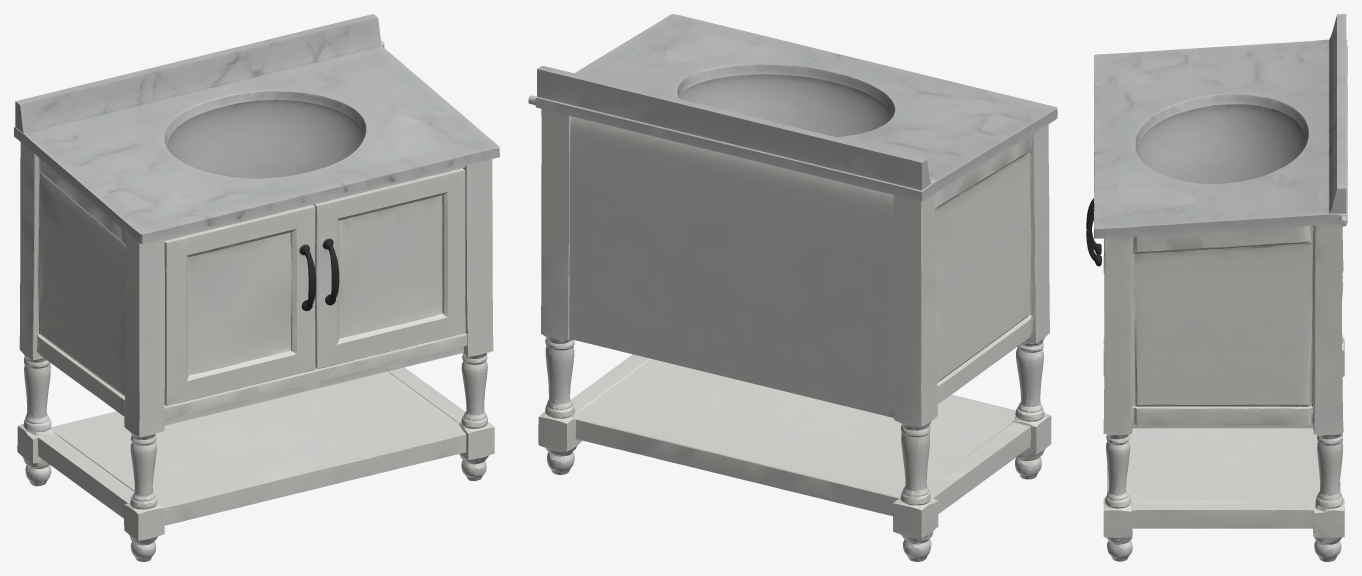
Rendered from cabinet.glb.
The picture shows the model from 3 angles, left to right: view 1: azimuth 30°, elevation 25°; view 2: azimuth 150°, elevation 25°; view 3: azimuth 270°, elevation 25°; orthographic projection. The views are drawn at different scales.
Parts seen in each view (by area): view 1: model; view 2: model; view 3: model.
Part boxes in pixels (x1,y1,x2,y2): model: (14,14,499,561); model: (528,14,1057,561); model: (1086,14,1347,561).
Bounding box in the file's own units: 1.88 × 1.85 × 1.16.
Materials: 1 (1 with a texture image).
